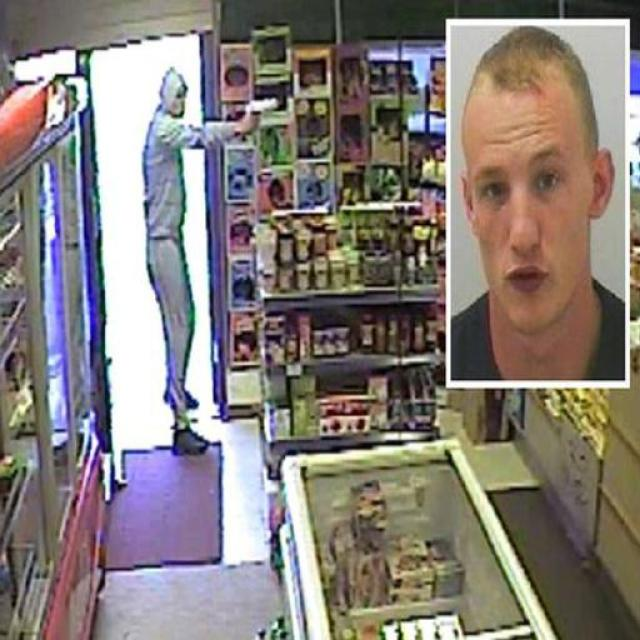pistol: (231, 89, 279, 140)
